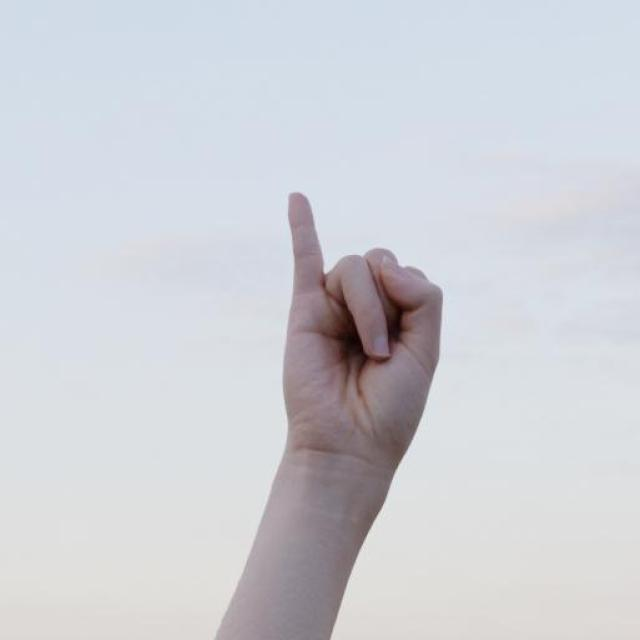I: (280, 188, 444, 468)
